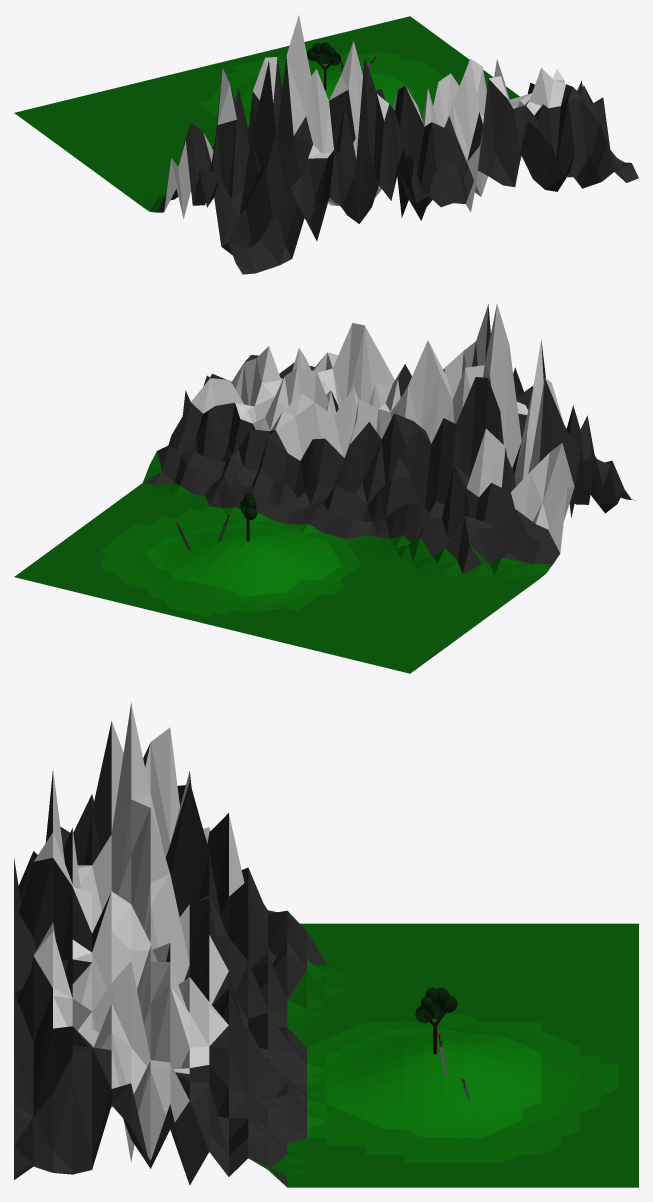
The model's file is LowPolyNew.obj.
The picture shows the model from 3 angles, top to bottom: view 1: azimuth 30°, elevation 25°; view 2: azimuth 150°, elevation 25°; view 3: azimuth 270°, elevation 25°; orthographic projection. The views are drawn at different scales.
Visible parts, largest first — view 1: Plane_Plane.001, Cylinder; view 2: Plane_Plane.001; view 3: Plane_Plane.001, Cylinder.
Boxes of the visible parts, x1,y1,x2,y2 form: Plane_Plane.001: (14,15,638,274); Cylinder: (307,42,340,89); Plane_Plane.001: (14,304,635,673); Plane_Plane.001: (14,702,638,1187); Cylinder: (415,987,457,1054).
Size of the model in its own units: 20 by 10.15 by 20.
